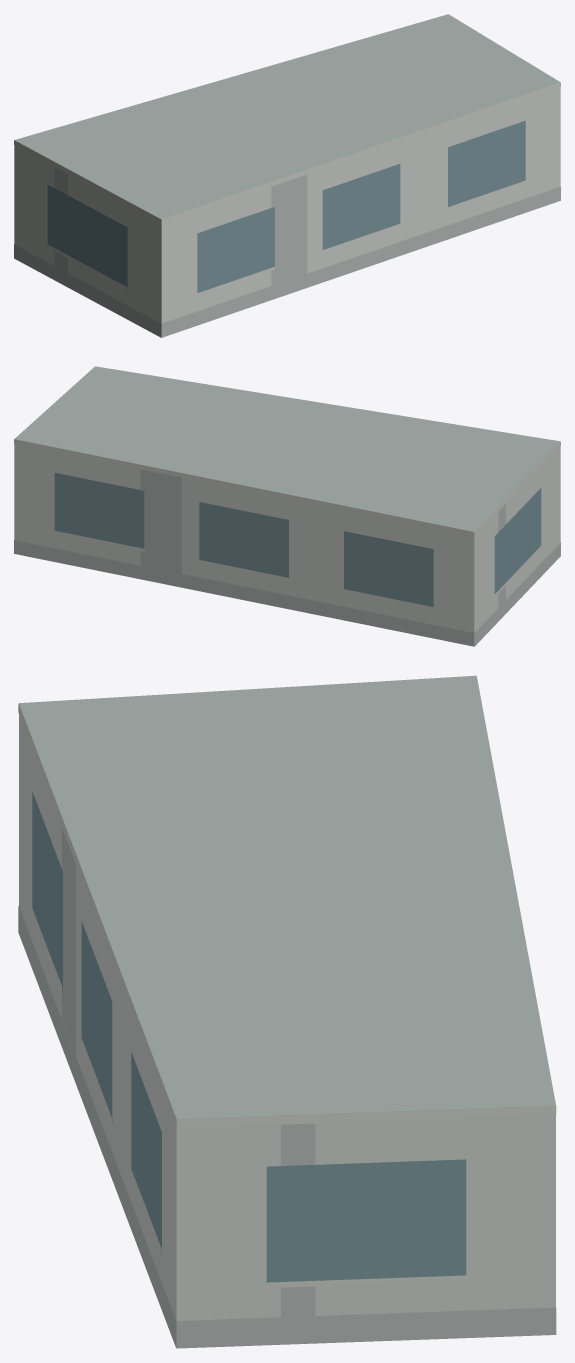
The model's file is residential-e3360f93-7c3e-454b-9b39-e30b17299819.glb.
3 views of the same model, one above another, from view 1: azimuth 30°, elevation 25°; view 2: azimuth 150°, elevation 25°; view 3: azimuth 270°, elevation 25° (orthographic). The views are drawn at different scales.
Visible parts, largest first — view 1: residential-e3360f93-7c3e-454b-9b39-e30b17299819.tmp; view 2: residential-e3360f93-7c3e-454b-9b39-e30b17299819.tmp; view 3: residential-e3360f93-7c3e-454b-9b39-e30b17299819.tmp.
Boxes of the visible parts, x1,y1,x2,y2 form: residential-e3360f93-7c3e-454b-9b39-e30b17299819.tmp: (14,14,560,337); residential-e3360f93-7c3e-454b-9b39-e30b17299819.tmp: (14,366,560,646); residential-e3360f93-7c3e-454b-9b39-e30b17299819.tmp: (18,675,556,1348).
Bounding box in the file's own units: 12.66 × 3.05 × 6.49.
